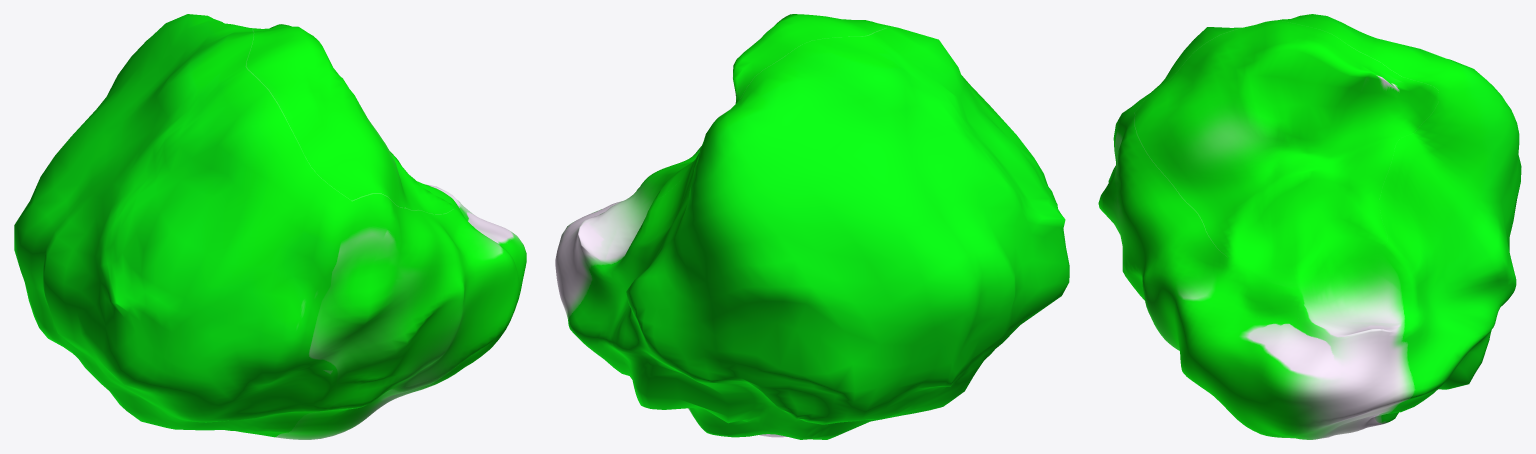
Rendered from Rock_Weird.glb.
The picture shows the model from 3 angles, left to right: view 1: azimuth 30°, elevation 25°; view 2: azimuth 150°, elevation 25°; view 3: azimuth 270°, elevation 25°; orthographic projection. The views are drawn at different scales.
Parts seen in each view (by area): view 1: Cube; view 2: Cube; view 3: Cube.
Part boxes in pixels (x1=…): Cube: x1=14, y1=14, x2=526, y2=439; Cube: x1=555, y1=14, x2=1069, y2=439; Cube: x1=1098, y1=14, x2=1521, y2=439.
Size of the model in its own units: 8.46 by 7.21 by 7.19.
1 material, 1 textured.
